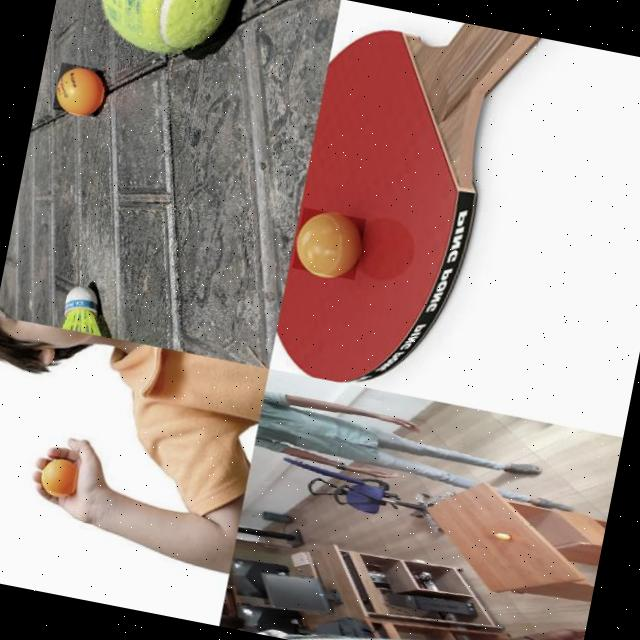ping-pong-ball: (292, 207, 368, 280), (53, 61, 107, 118), (40, 453, 80, 496), (496, 531, 514, 539)
